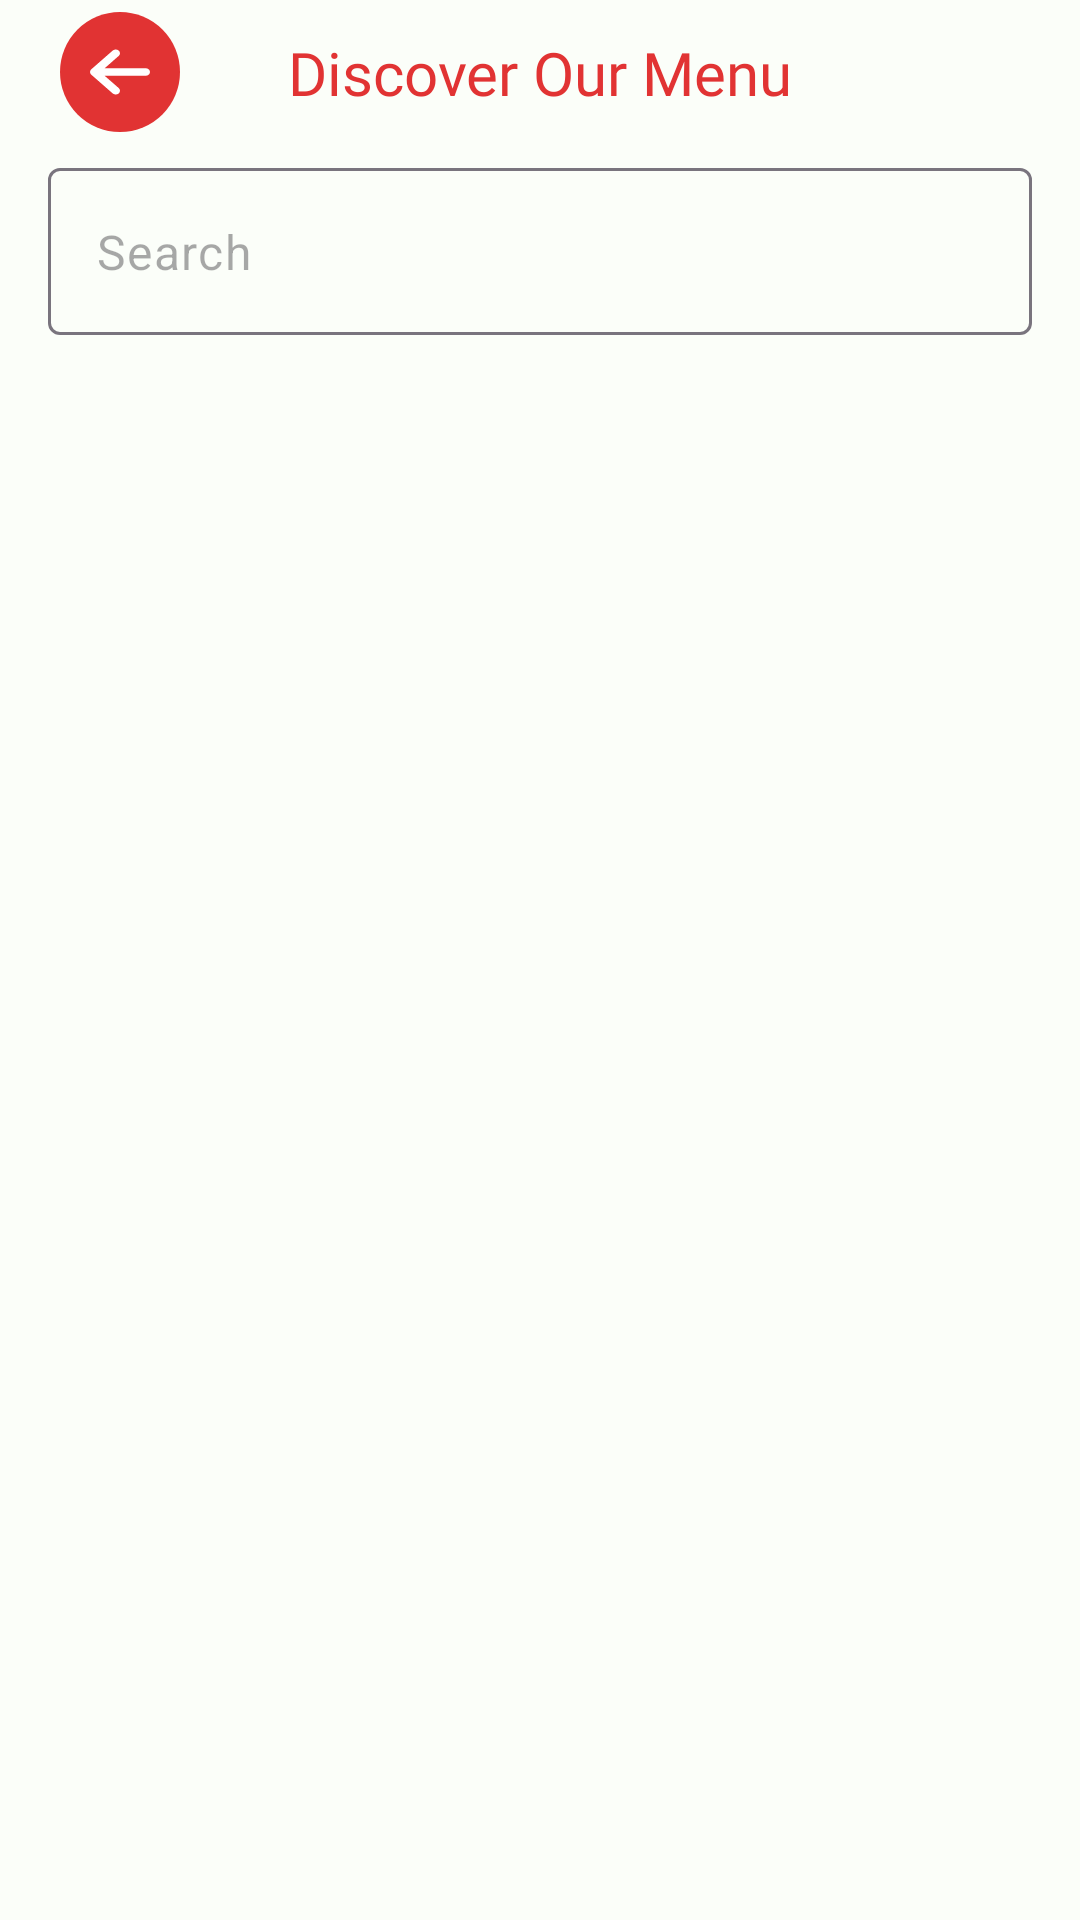

Icon click points for this 1080px x 1920px phone screenshot, format point (x, y):
arrow left: point (120, 72)
